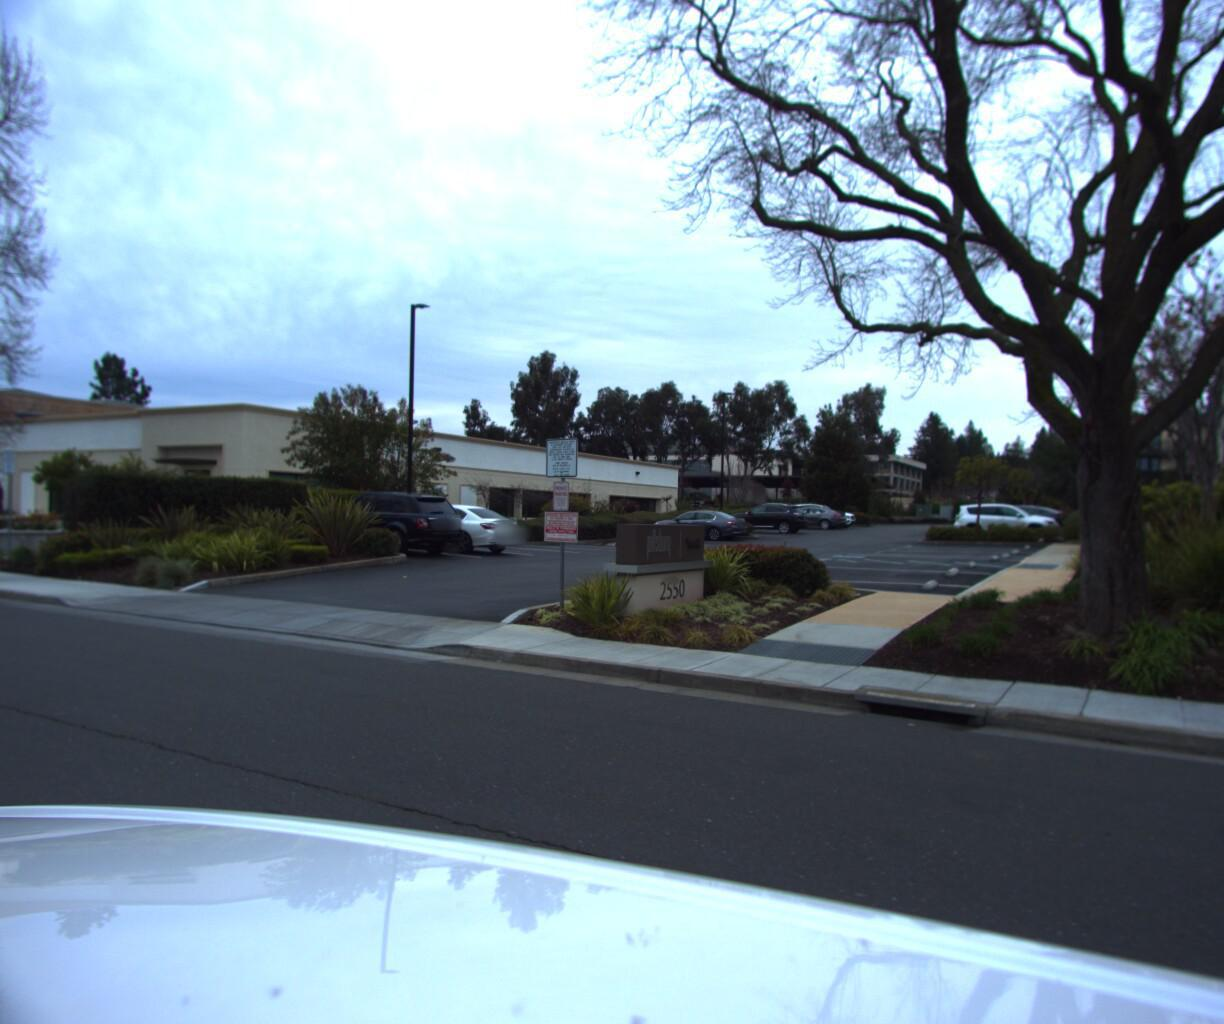car: (297, 490, 472, 557)
